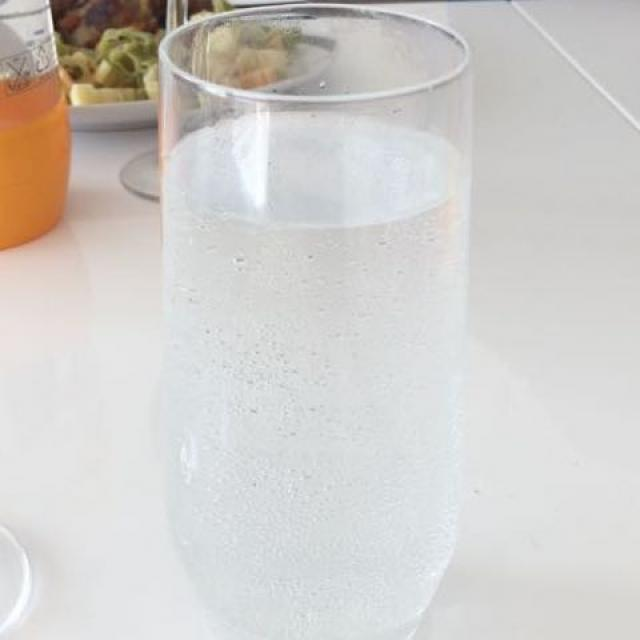water: (158, 121, 470, 613)
